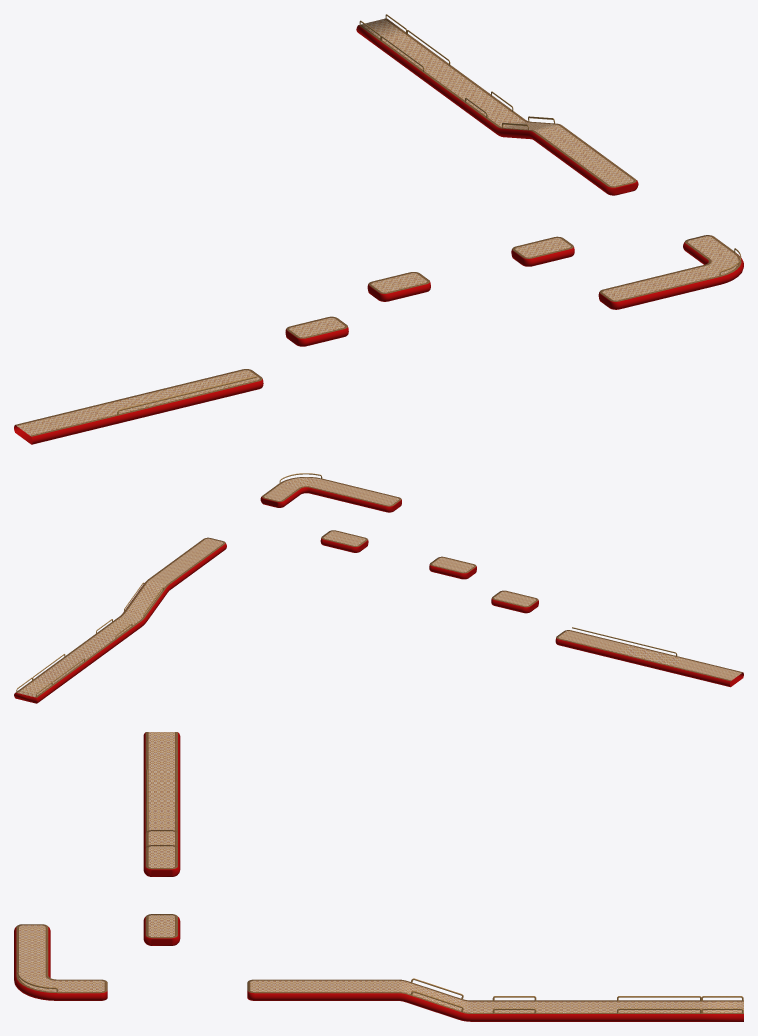
The model's file is map33.fbx.
3 renders of one model, top to bottom at view 1: azimuth 30°, elevation 25°; view 2: azimuth 150°, elevation 25°; view 3: azimuth 270°, elevation 25°, orthographic. The views are drawn at different scales.
Parts seen in each view (by area): view 1: Dummy_Start_1; view 2: Dummy_Start_1; view 3: Dummy_Start_1.
Part boxes in pixels (<box>): Dummy_Start_1: <box>14,14,743,444</box>; Dummy_Start_1: <box>14,473,743,703</box>; Dummy_Start_1: <box>14,732,743,1021</box>.
Size of the model in its own units: 10469 by 1050 by 10181.
7 materials, 3 textured.
